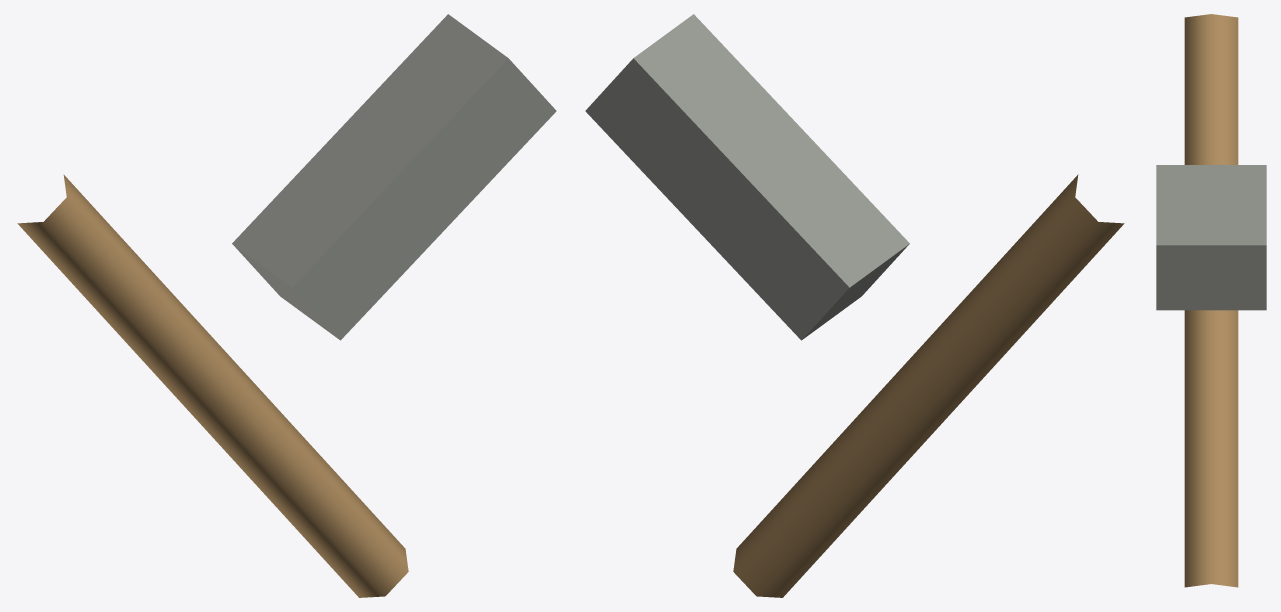
Rendered from tools.glb.
3 renders of one model, left to right at view 1: azimuth 30°, elevation 25°; view 2: azimuth 150°, elevation 25°; view 3: azimuth 270°, elevation 25°, orthographic. The views are drawn at different scales.
Visible parts, largest first — view 1: tools; view 2: tools; view 3: tools.
Boxes of the visible parts, x1,y1,x2,y2 form: tools: (17, 14, 556, 597); tools: (585, 14, 1124, 597); tools: (1156, 14, 1266, 587).
Size of the model in its own units: 0.7795 by 0.7792 by 0.16.
